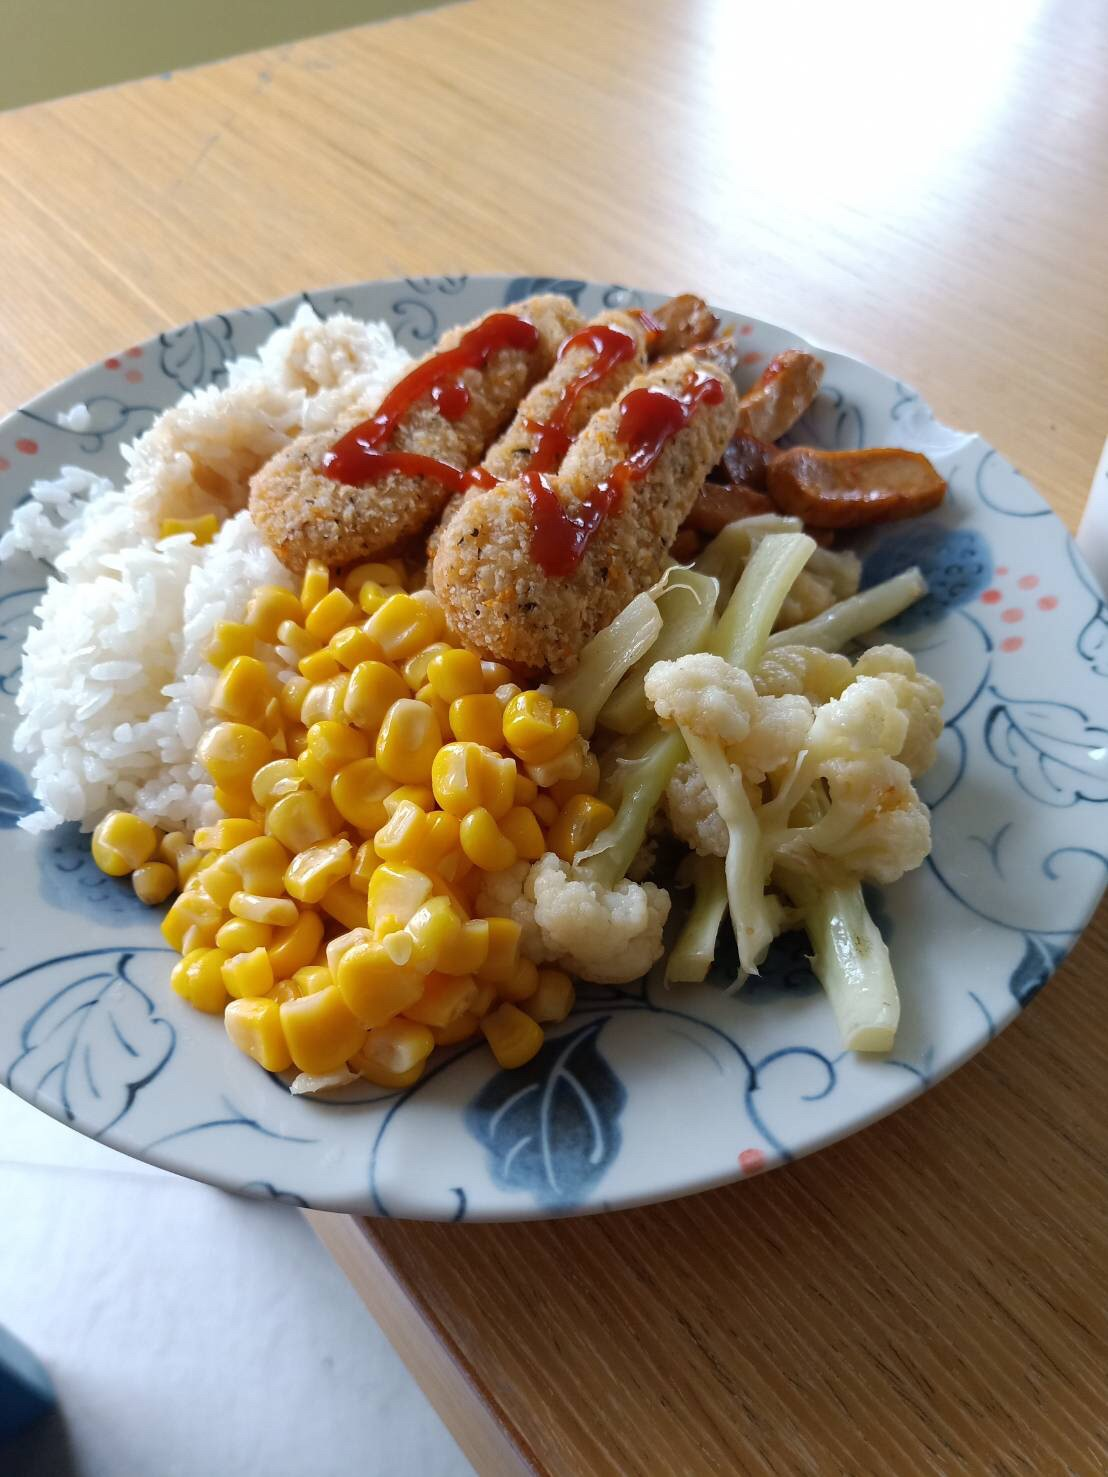rice: (1, 482, 262, 801)
